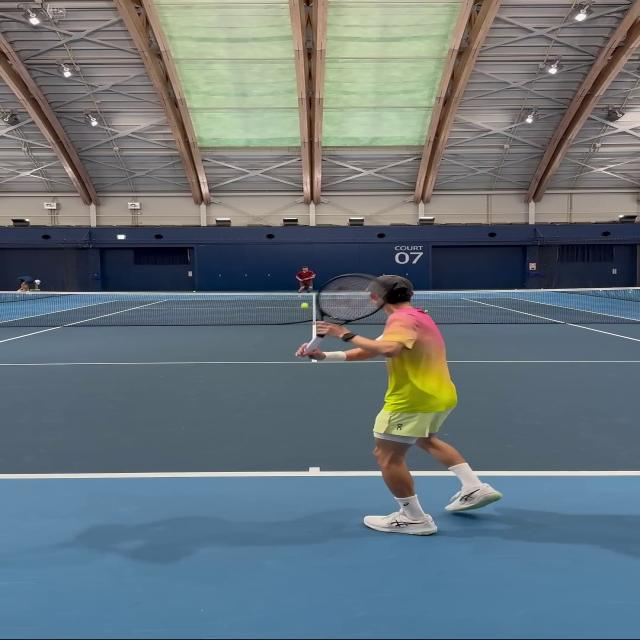tennis_ball: (302, 304, 307, 307)
